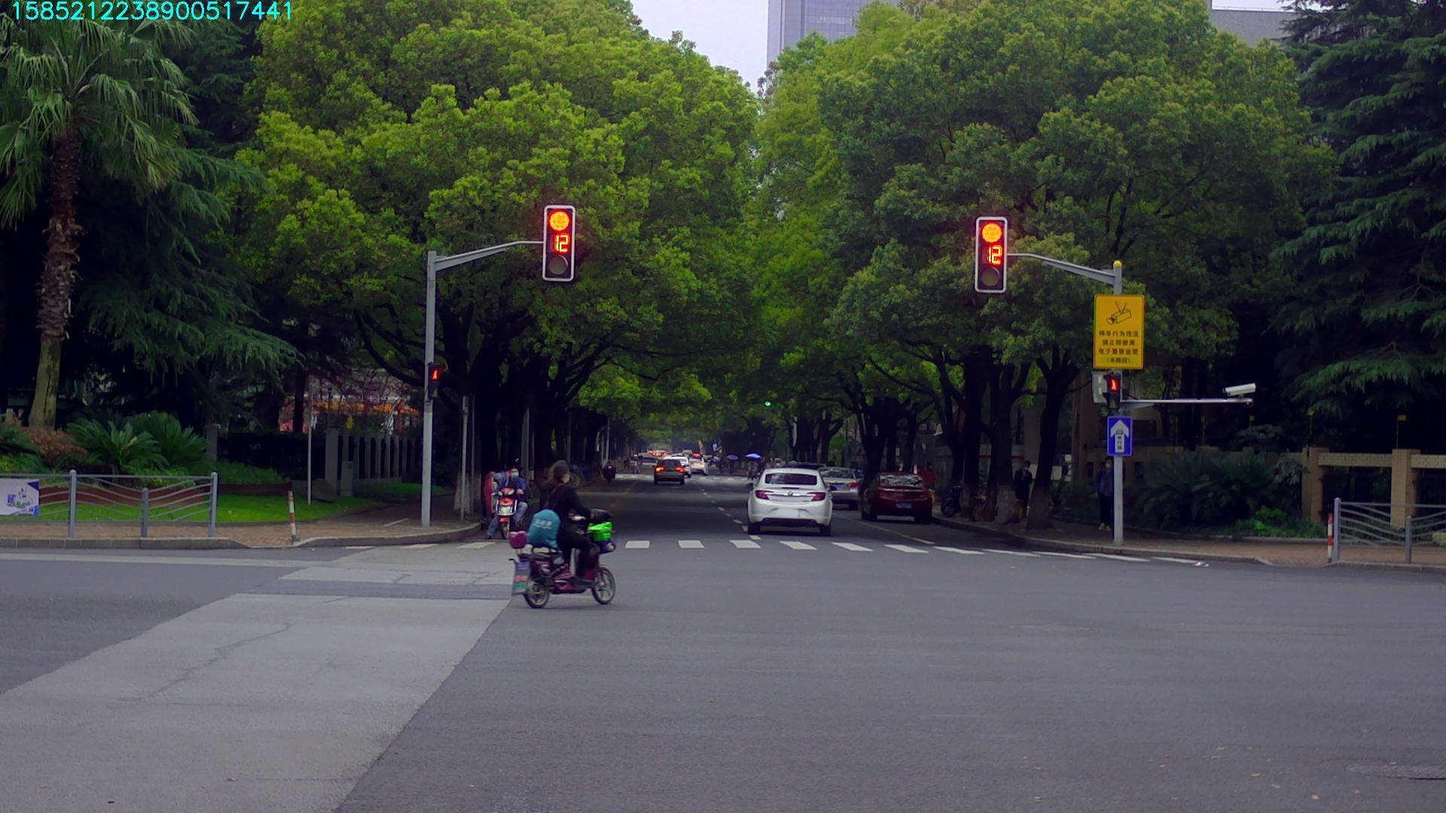red: (977, 218, 1005, 290), (544, 206, 572, 277)
